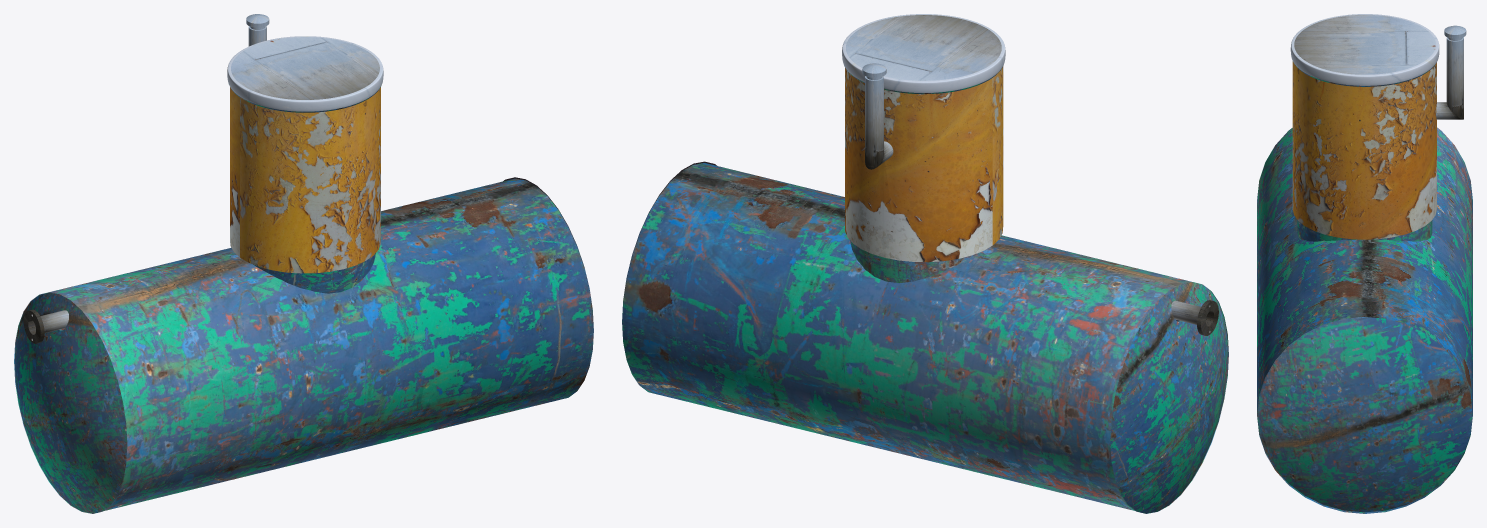
The model's file is Tank.fbx.
The picture shows the model from 3 angles, left to right: view 1: azimuth 30°, elevation 25°; view 2: azimuth 150°, elevation 25°; view 3: azimuth 270°, elevation 25°; orthographic projection. The views are drawn at different scales.
Visible parts, largest first — view 1: Цилиндр, Окружность.003, Окружность.001, Цилиндр.002, Окружность.002, Цилиндр.001; view 2: Цилиндр, Окружность.003, Окружность.001, Цилиндр.002, Цилиндр.007, Окружность.002, Цилиндр.001; view 3: Окружность, Цилиндр, Окружность.003, Цилиндр.002, Цилиндр.007, Окружность.002.
Boxes of the visible parts, bbox=[...] form: Цилиндр: bbox=[14, 178, 593, 513]; Окружность.003: bbox=[230, 87, 380, 273]; Окружность.001: bbox=[14, 292, 127, 513]; Цилиндр.002: bbox=[227, 36, 383, 112]; Окружность.002: bbox=[253, 253, 375, 293]; Цилиндр.001: bbox=[23, 309, 68, 343]; Цилиндр: bbox=[622, 163, 1228, 513]; Окружность.003: bbox=[845, 66, 1003, 262]; Окружность.001: bbox=[1110, 282, 1228, 513]; Цилиндр.002: bbox=[842, 14, 1005, 94]; Цилиндр.007: bbox=[862, 63, 893, 169]; Окружность.002: bbox=[850, 240, 977, 282]; Цилиндр.001: bbox=[1171, 300, 1218, 335]; Окружность: bbox=[1257, 317, 1472, 512]; Цилиндр: bbox=[1257, 127, 1472, 513]; Окружность.003: bbox=[1292, 61, 1436, 239]; Цилиндр.002: bbox=[1290, 14, 1439, 86]; Цилиндр.007: bbox=[1436, 25, 1466, 119]; Окружность.002: bbox=[1297, 220, 1432, 241].
Size of the model in its own units: 406 by 291 by 150.
